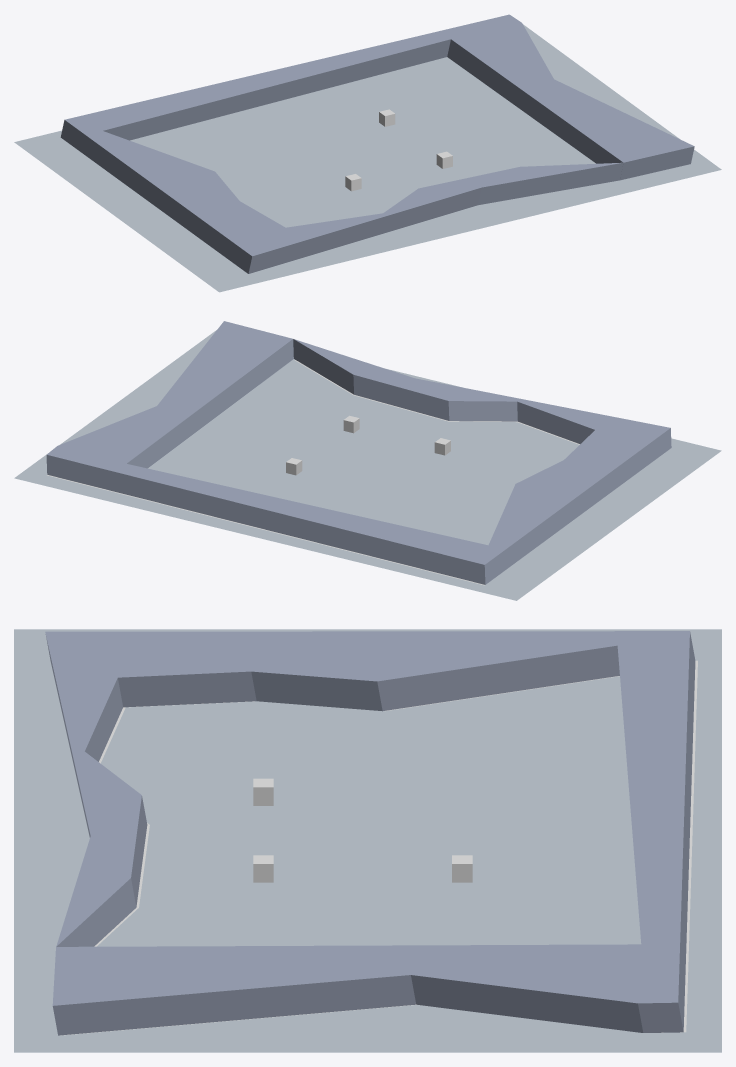
The model's file is area01.dae.
3 views of the same model, one above another, from view 1: azimuth 30°, elevation 25°; view 2: azimuth 150°, elevation 25°; view 3: azimuth 270°, elevation 25° (orthographic). The views are drawn at different scales.
Parts seen in each view (by area): view 1: Plane, wall; view 2: Plane, wall, area01_2d; view 3: Plane, wall, area01_2d.
Boxes of the visible parts, x1,y1,x2,y2 form: Plane: [14, 24, 721, 292]; wall: [60, 14, 694, 273]; Plane: [14, 330, 721, 600]; wall: [46, 321, 671, 584]; area01_2d: [47, 360, 579, 585]; Plane: [14, 629, 721, 1052]; wall: [45, 631, 695, 1035]; area01_2d: [61, 660, 697, 1035].
Bounding box in the file's own units: 97.64 × 69.06 × 3.56.
